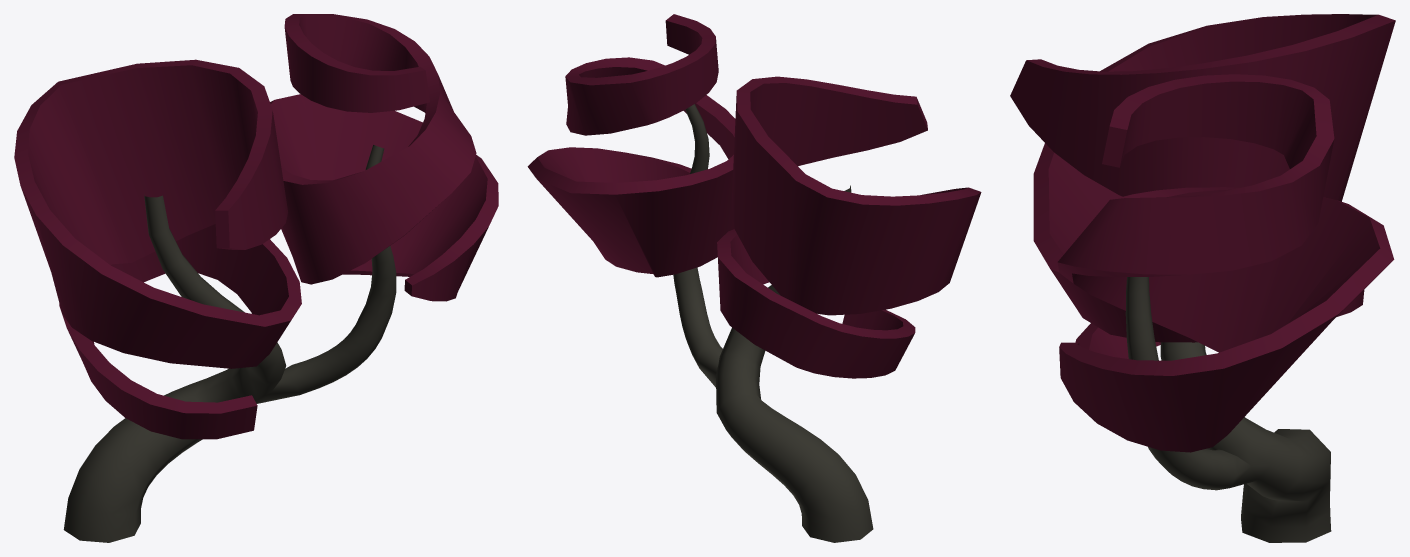
File: Tree Spiral-gI3kqnqg80.glb
3 views of the same model, side by side, from view 1: azimuth 30°, elevation 25°; view 2: azimuth 150°, elevation 25°; view 3: azimuth 270°, elevation 25° (orthographic). The views are drawn at different scales.
Visible parts, largest first — view 1: Tree_Spiral_3; view 2: Tree_Spiral_3; view 3: Tree_Spiral_3.
Part boxes in pixels (x1,y1,x2,y2): Tree_Spiral_3: [14, 14, 498, 542]; Tree_Spiral_3: [527, 14, 981, 542]; Tree_Spiral_3: [1010, 14, 1395, 542].
Bounding box in the file's own units: 4.22 × 4.05 × 2.54.
1 material, 1 textured.
